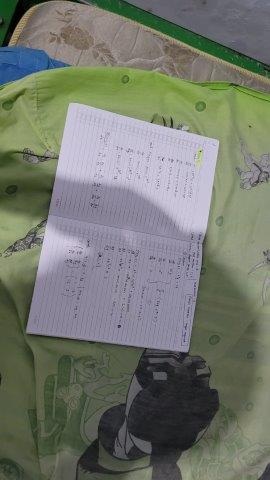kertas: (26, 103, 221, 358)
